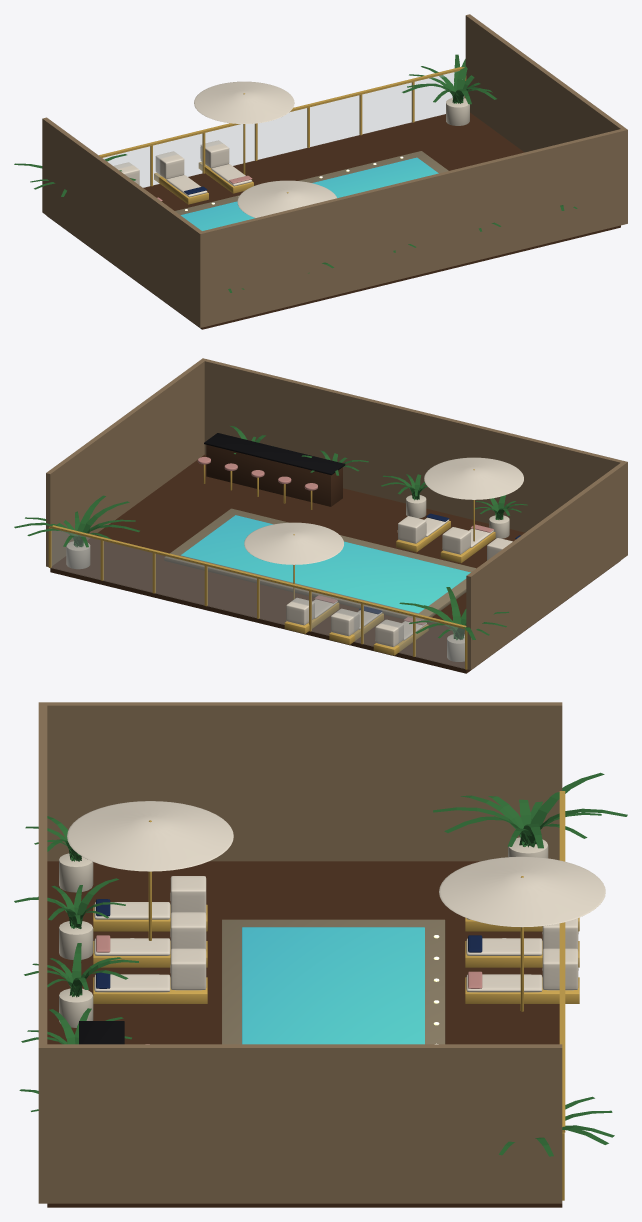
File: room_pool.glb
The picture shows the model from 3 angles, top to bottom: view 1: azimuth 30°, elevation 25°; view 2: azimuth 150°, elevation 25°; view 3: azimuth 270°, elevation 25°; orthographic projection. The views are drawn at different scales.
Visible parts, largest first — view 1: RmPoolS_LuxPlasterWarm, RmPoolS_LuxHerringbone, RmPoolS_LuxGlass, RmPoolF_LuxLinen, RmPoolF_LuxMarbleWhite, RmPoolF_Pool, RmPoolS_LuxGold, RmPoolF_LuxLeaf, RmPoolF_LuxGoldBrushed, RmPoolF_LuxPot; view 2: RmPoolS_LuxPlasterWarm, RmPoolS_LuxHerringbone, RmPoolS_LuxGlass, RmPoolF_LuxMarbleWhite, RmPoolF_LuxLinen, RmPoolF_Pool, RmPoolF_LuxFlutedWalnut, RmPoolF_LuxLeaf, RmPoolS_LuxGold, RmPoolF_LuxGoldBrushed, RmPoolF_LuxMarbleBlack, RmPoolF_LuxPot (+1 smaller); view 3: RmPoolS_LuxPlasterWarm, RmPoolS_LuxHerringbone, RmPoolF_LuxLinen, RmPoolF_LuxMarbleWhite, RmPoolF_Pool, RmPoolF_LuxLeaf, RmPoolF_LuxGoldBrushed, RmPoolF_LuxPot, RmPoolS_LuxGold, RmPoolF_LuxMarbleBlack, RmPoolF_LuxVelvetNavy.
Part boxes in pixels (box(x1,y1,x2,y2)): RmPoolS_LuxPlasterWarm: box(42, 14, 627, 327); RmPoolS_LuxHerringbone: box(47, 112, 620, 329); RmPoolS_LuxGlass: box(103, 72, 464, 187); RmPoolF_LuxLinen: box(113, 81, 336, 217); RmPoolF_LuxMarbleWhite: box(175, 151, 448, 230); RmPoolF_Pool: box(181, 157, 438, 230); RmPoolS_LuxGold: box(99, 67, 466, 186); RmPoolF_LuxLeaf: box(14, 54, 577, 292); RmPoolF_LuxGoldBrushed: box(154, 162, 253, 204); RmPoolF_LuxPot: box(446, 98, 469, 125); RmPoolS_LuxPlasterWarm: box(46, 358, 627, 669); RmPoolS_LuxHerringbone: box(50, 454, 619, 673); RmPoolS_LuxGlass: box(51, 530, 464, 668); RmPoolF_LuxMarbleWhite: box(164, 508, 475, 620); RmPoolF_LuxLinen: box(244, 457, 523, 647); RmPoolF_Pool: box(181, 515, 470, 613); RmPoolF_LuxFlutedWalnut: box(206, 444, 342, 506); RmPoolF_LuxLeaf: box(14, 426, 527, 639); RmPoolS_LuxGold: box(48, 525, 467, 669); RmPoolF_LuxGoldBrushed: box(284, 521, 495, 655); RmPoolF_LuxMarbleBlack: box(204, 433, 345, 475); RmPoolF_LuxPot: box(66, 495, 509, 661); RmPoolS_LuxPlasterWarm: box(38, 702, 562, 1203); RmPoolS_LuxHerringbone: box(47, 861, 562, 1207); RmPoolF_LuxLinen: box(67, 801, 605, 992); RmPoolF_LuxMarbleWhite: box(222, 919, 445, 1044); RmPoolF_Pool: box(242, 927, 424, 1044); RmPoolF_LuxLeaf: box(14, 772, 627, 1156); RmPoolF_LuxGoldBrushed: box(93, 904, 579, 1003); RmPoolF_LuxPot: box(59, 837, 548, 1027); RmPoolS_LuxGold: box(559, 791, 565, 1200); RmPoolF_LuxMarbleBlack: box(79, 1021, 124, 1044); RmPoolF_LuxVelvetNavy: box(96, 899, 482, 988).
Bounding box in the file's own units: 15.86 × 3.15 × 10.73.
